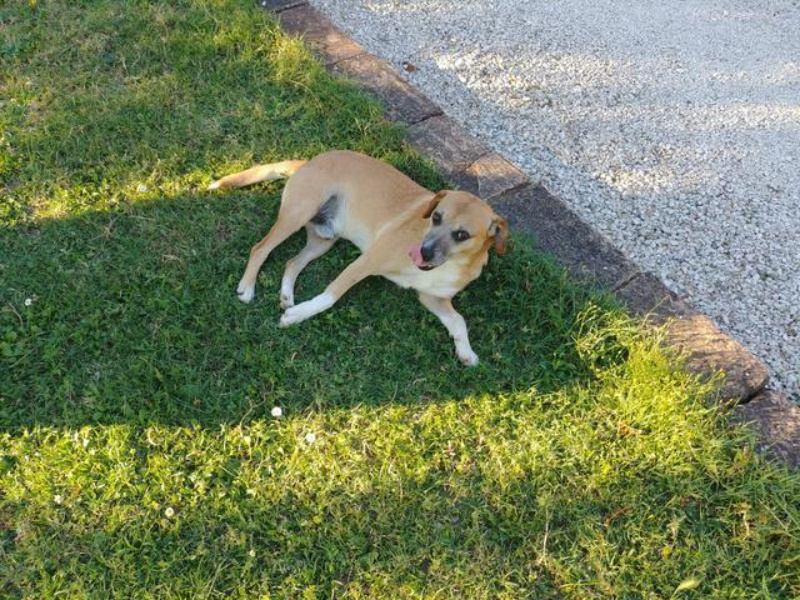puppy: (152, 105, 544, 384)
